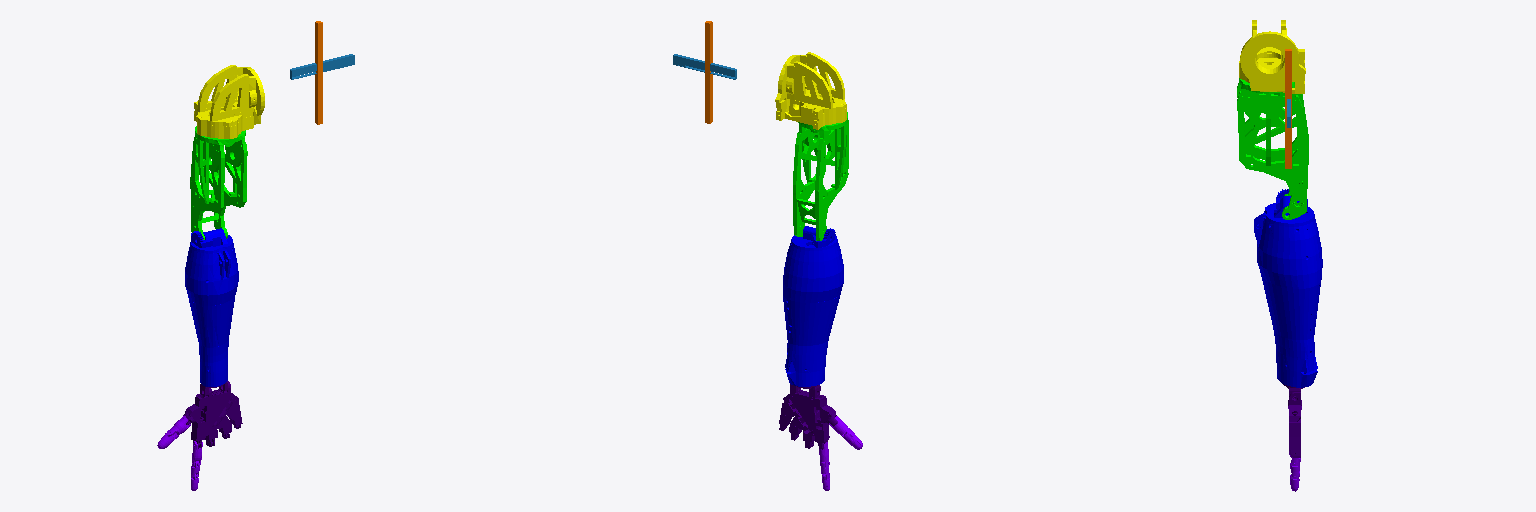
URDF robot description (inmoov_v1):
<?xml version="1.0" ?>
<!-- =================================================================================== -->
<!-- |    This document was autogenerated by xacro from ver01_addedcamera.xacro        | -->
<!-- |    EDITING THIS FILE BY HAND IS NOT RECOMMENDED                                 | -->
<!-- =================================================================================== -->
<robot name="inmoov_v1" xmlns:xacro="http://ros.org/wiki/xacro">
  <!--  -->
  <!-- Materials -->
  <material name="red">
    <color rgba="1.0 0.0 0.0 0.8"/>
  </material>
  <material name="orange">
    <color rgba="1.0 0.5 0.0 0.8"/>
  </material>
  <material name="yellow">
    <color rgba="1.0 1.0 0.0 0.8"/>
  </material>
  <material name="green">
    <color rgba="0.0 1.0 0.0 0.8"/>
  </material>
  <material name="blue">
    <color rgba="0.0 0.0 1.0 0.8"/>
  </material>
  <material name="indigo">
    <color rgba="0.294 0.0 0.510 0.8"/>
  </material>
  <material name="violet">
    <color rgba="0.561 0.0 1.0 0.8"/>
  </material>
  <material name="realsensecolor">
    <color rgba="0.141 0.529 0.757 0.8"/>
  </material>
  <!-- Variables  -->
  <!-- Body Parts -->
  <!-- Base -->
  <link name="base_link">
    <visual>
      <origin rpy="0 0 0" xyz="0 0 0"/>
      <geometry>
        <mesh filename="package://robo_description/meshes/torso/visual/Inmoov_Baselink_02.STL" scale="0.001 0.001 0.001"/>
      </geometry>
      <material name="red"/>
    </visual>
    <collision>
      <origin rpy="0 0 0" xyz="0 0 0"/>
      <geometry>
        <mesh filename="package://robo_description/meshes/torso/collision/Collision_Base.STL" scale="0.001 0.001 0.001"/>
      </geometry>
    </collision>
  </link>
  <!-- Shoulder_A -->
  <link name="shoulder_a_link">
    <visual>
      <origin rpy="0 0 0" xyz="0 0 0"/>
      <geometry>
        <mesh filename="package://robo_description/meshes/arm/visual/Inmoov_ShoulderA_02.STL" scale="0.001 0.001 0.001"/>
      </geometry>
      <material name="orange"/>
    </visual>
    <collision>
      <origin rpy="0 0 0" xyz="0 0 0"/>
      <geometry>
        <mesh filename="package://robo_description/meshes/arm/collision/Collision_ShoulderA.STL" scale="0.001 0.001 0.001"/>
      </geometry>
    </collision>
  </link>
  <joint name="arm_out_joint" type="revolute">
    <axis xyz="0 1 0"/>
    <origin rpy="0 0 0" xyz="0 0 0"/>
    <limit effort="1000.0" lower="0.0" upper="1.5707963" velocity="0.5"/>
    <parent link="base_link"/>
    <child link="shoulder_a_link"/>
  </joint>
  <!-- Shoulder_B -->
  <link name="shoulder_b_link">
    <visual>
      <origin rpy="0 0 0" xyz="0 0 0"/>
      <geometry>
        <mesh filename="package://robo_description/meshes/arm/visual/Inmoov_ShoulderB_02.STL" scale="0.001 0.001 0.001"/>
      </geometry>
      <material name="yellow"/>
    </visual>
    <collision>
      <origin rpy="0 0 0" xyz="0 0 0"/>
      <geometry>
        <mesh filename="package://robo_description/meshes/arm/collision/Collision_ShoulderB.STL" scale="0.001 0.001 0.001"/>
      </geometry>
    </collision>
  </link>
  <joint name="arm_fwd_joint" type="revolute">
    <axis xyz="-1 0 0"/>
    <origin rpy="0 0 0" xyz="0 0 0"/>
    <limit effort="1000.0" lower="0.0" upper="1.5707963" velocity="0.5"/>
    <parent link="shoulder_a_link"/>
    <child link="shoulder_b_link"/>
  </joint>
  <!-- Biceps -->
  <link name="biceps_link">
    <visual>
      <origin rpy="0 0 0" xyz=".0775382 .00106347 .0976646"/>
      <geometry>
        <mesh filename="package://robo_description/meshes/arm/visual/Inmoov_Biceps_02.STL" scale="0.001 0.001 0.001"/>
      </geometry>
      <material name="green"/>
    </visual>
    <collision>
      <origin rpy="0 0 0" xyz=".0775382 .00106347 .0976646"/>
      <geometry>
        <mesh filename="package://robo_description/meshes/arm/collision/Collision_Biceps.STL" scale="0.001 0.001 0.001"/>
      </geometry>
    </collision>
  </link>
  <joint name="arm_rotate_joint" type="revolute">
    <axis xyz="0 0 1"/>
    <origin rpy="0 0 0" xyz="-.0775382 -.00106347 -.0976646"/>
    <limit effort="1000.0" lower="-1.5707963" upper="1.5707963" velocity="0.5"/>
    <parent link="shoulder_b_link"/>
    <child link="biceps_link"/>
  </joint>
  <!-- Forearm -->
  <link name="forearm_link">
    <visual>
      <origin rpy="0 0 0" xyz=".078261 -.027094 .322299"/>
      <geometry>
        <mesh filename="package://robo_description/meshes/arm/visual/Inmoov_Forearm_02.STL" scale="0.001 0.001 0.001"/>
      </geometry>
      <material name="blue"/>
    </visual>
    <collision>
      <origin rpy="0 0 0" xyz=".078261 -.027094 .322299"/>
      <geometry>
        <mesh filename="package://robo_description/meshes/arm/collision/Collision_Forearm.STL" scale="0.001 0.001 0.001"/>
      </geometry>
    </collision>
  </link>
  <joint name="elbow_joint" type="revolute">
    <axis xyz="-1 0 0"/>
    <origin rpy="0 0 0" xyz="-.0007228 .02815747 -.2246344"/>
    <limit effort="1000.0" lower="0.0" upper="1.5707963" velocity="0.5"/>
    <parent link="biceps_link"/>
    <child link="forearm_link"/>
  </joint>
  <!-- Wrist/Hand -->
  <link name="wrist_link">
    <visual>
      <origin rpy="0 0 0" xyz=".068289 -.03942 .611017"/>
      <geometry>
        <mesh filename="package://robo_description/meshes/arm/visual/Inmoov_Hand_02.STL" scale="0.001 0.001 0.001"/>
      </geometry>
      <material name="indigo"/>
    </visual>
    <collision>
      <origin rpy="0 0 0" xyz=".068289 -.03942 .611017"/>
      <geometry>
        <mesh filename="package://robo_description/meshes/arm/collision/Collision_Hand_02.STL" scale="0.001 0.001 0.001"/>
      </geometry>
    </collision>
  </link>
  <joint name="wrist_joint" type="revolute">
    <axis xyz="0 0 1"/>
    <origin rpy="0 0 0" xyz=".009972 .012326 -.288718"/>
    <limit effort="1000.0" lower="0.0" upper="3.1415926" velocity="0.5"/>
    <parent link="forearm_link"/>
    <child link="wrist_link"/>
  </joint>
  <!-- Index Finger -->
  <link name="index_link">
    <visual>
      <origin rpy="0 0 0" xyz=".102137 -.037759 .730393"/>
      <geometry>
        <mesh filename="package://robo_description/meshes/arm/visual/Inmoov_Index.STL" scale="0.001 0.001 0.001"/>
      </geometry>
      <material name="violet"/>
    </visual>
    <collision>
      <origin rpy="0 0 0" xyz=".102137 -.037759 .730393"/>
      <geometry>
        <mesh filename="package://robo_description/meshes/arm/collision/Collision_Index.STL" scale="0.001 0.001 0.001"/>
      </geometry>
    </collision>
  </link>
  <joint name="index_joint" type="revolute">
    <axis xyz="-1 0 0"/>
    <origin rpy="0 0 0" xyz="-.033848 -.001661 -.119376"/>
    <limit effort="1000.0" lower="0.0" upper="1.5707963" velocity="0.5"/>
    <parent link="wrist_link"/>
    <child link="index_link"/>
  </joint>
  <!-- Thumb Finger -->
  <link name="thumb_link">
    <visual>
      <origin rpy="0 0 0" xyz=".126567 -.038285 .679538"/>
      <geometry>
        <mesh filename="package://robo_description/meshes/arm/visual/Inmoov_Thumb.STL" scale="0.001 0.001 0.001"/>
      </geometry>
      <material name="violet"/>
    </visual>
    <collision>
      <origin rpy="0 0 0" xyz=".126567 -.038285 .679538"/>
      <geometry>
        <mesh filename="package://robo_description/meshes/arm/collision/Collision_Thumb.STL" scale="0.001 0.001 0.001"/>
      </geometry>
    </collision>
  </link>
  <joint name="thumb_joint" type="revolute">
    <axis xyz="0 0 1"/>
    <origin rpy="0 0 0" xyz="-.058278 -.001135 -.068521"/>
    <limit effort="1000.0" lower="0.0" upper="1.5707963" velocity="0.5"/>
    <parent link="wrist_link"/>
    <child link="thumb_link"/>
  </joint>
  <!-- Realsense sensor -->
  <!-- Pole -->
  <link name="pole_link">
    <visual>
      <origin rpy="0 0 0" xyz="0.142 0.0286 -0.05"/>
      <geometry>
        <box size="0.01 0.01 0.2"/>
      </geometry>
      <material name="orange"/>
    </visual>
    <collision>
      <origin rpy="0 0 0" xyz="0 0 0"/>
      <geometry>
        <box size="0.01 0.01 0.2"/>
      </geometry>
    </collision>
  </link>
  <joint name="pole_base_joint" type="prismatic">
    <axis xyz="0 0 1"/>
    <origin rpy="0 0 0" xyz="0 0 0"/>
    <limit effort="1000.0" lower="0.0" upper="0.2" velocity="0.5"/>
    <parent link="base_link"/>
    <child link="pole_link"/>
  </joint>
  <!-- Camera -->
  <link name="camera_link">
    <visual>
      <origin rpy="0 0 0" xyz="0.142 0.0286 0.02"/>
      <geometry>
        <mesh filename="package://robo_description/meshes/camera/visual/RealSense.STL" scale="0.001 0.001 0.001"/>
      </geometry>
      <material name="realsensecolor"/>
    </visual>
    <collision>
      <origin rpy="0 0 0" xyz="0 0 0"/>
      <geometry>
        <box size="0.142 0.0286 0.02"/>
      </geometry>
    </collision>
  </link>
  <joint name="camera_pole_joint" type="revolute">
    <axis xyz="1 0 0"/>
    <origin rpy="0 0 0" xyz="0.0 0.0 -0.07"/>
    <limit effort="1000.0" lower="0.0" upper="0.78539815" velocity="0.5"/>
    <parent link="pole_link"/>
    <child link="camera_link"/>
  </joint>
</robot>

--- What the picture shows (computed from the rendered views, not written in the file) ---
The picture shows the robot from 3 angles, left to right: view 1: azimuth 30°, elevation 25°; view 2: azimuth 150°, elevation 25°; view 3: azimuth 270°, elevation 25°; orthographic projection.
Model inmoov_v1 with 10 links and 9 joints (8 revolute, 1 prismatic), rooted at base_link, posed every joint at zero.
Links seen in each view (by area): view 1: forearm_link, biceps_link, shoulder_b_link, wrist_link, pole_link, camera_link; view 2: forearm_link, biceps_link, shoulder_b_link, wrist_link, pole_link, camera_link; view 3: forearm_link, biceps_link, shoulder_b_link, wrist_link, pole_link.
Link boxes in pixels (x1=…): forearm_link: x1=185, y1=228, x2=238, y2=386; biceps_link: x1=190, y1=126, x2=247, y2=239; shoulder_b_link: x1=194, y1=65, x2=264, y2=138; wrist_link: x1=183, y1=381, x2=242, y2=446; pole_link: x1=315, y1=21, x2=322, y2=124; camera_link: x1=290, y1=54, x2=354, y2=79; forearm_link: x1=783, y1=226, x2=843, y2=386; biceps_link: x1=793, y1=112, x2=848, y2=240; shoulder_b_link: x1=775, y1=52, x2=846, y2=129; wrist_link: x1=779, y1=384, x2=836, y2=449; pole_link: x1=705, y1=21, x2=712, y2=123; camera_link: x1=673, y1=54, x2=736, y2=79; forearm_link: x1=1254, y1=189, x2=1322, y2=387; biceps_link: x1=1237, y1=78, x2=1308, y2=219; shoulder_b_link: x1=1239, y1=20, x2=1305, y2=93; wrist_link: x1=1283, y1=384, x2=1304, y2=457; pole_link: x1=1285, y1=49, x2=1291, y2=168.
Size in the robot's own frame: 0.3982 by 0.1326 by 0.8704 metres.
Meshes: 9 distinct files referenced, 7 mesh visuals loaded (7 binary STL); not drawn: 2 (reference not matched to a file when rendering).